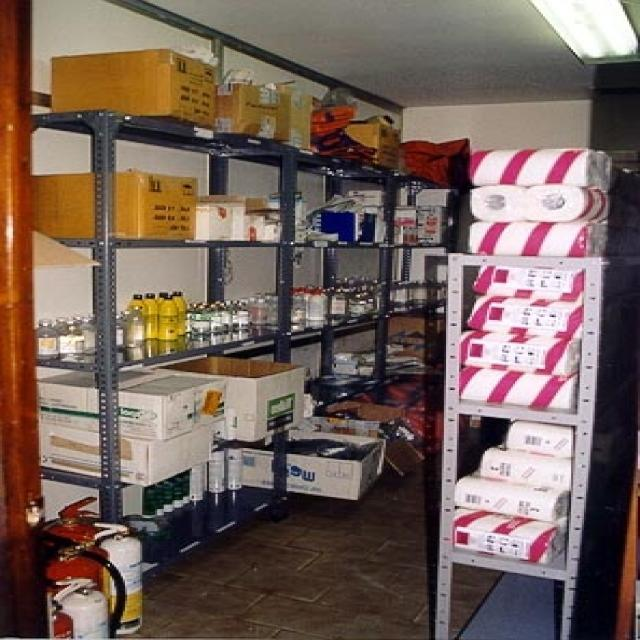box: (46, 50, 218, 112), (33, 176, 197, 236), (39, 423, 210, 472), (241, 439, 384, 495), (119, 379, 220, 433), (226, 367, 300, 435), (222, 83, 293, 136)
